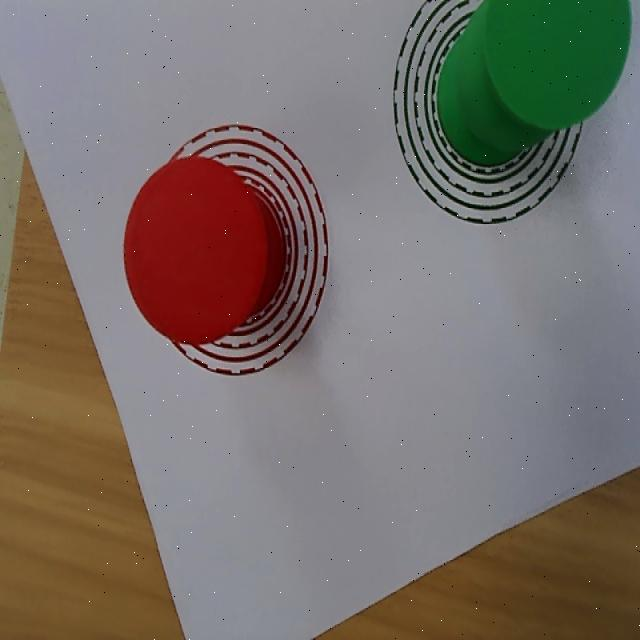r: (124, 156, 266, 343)
